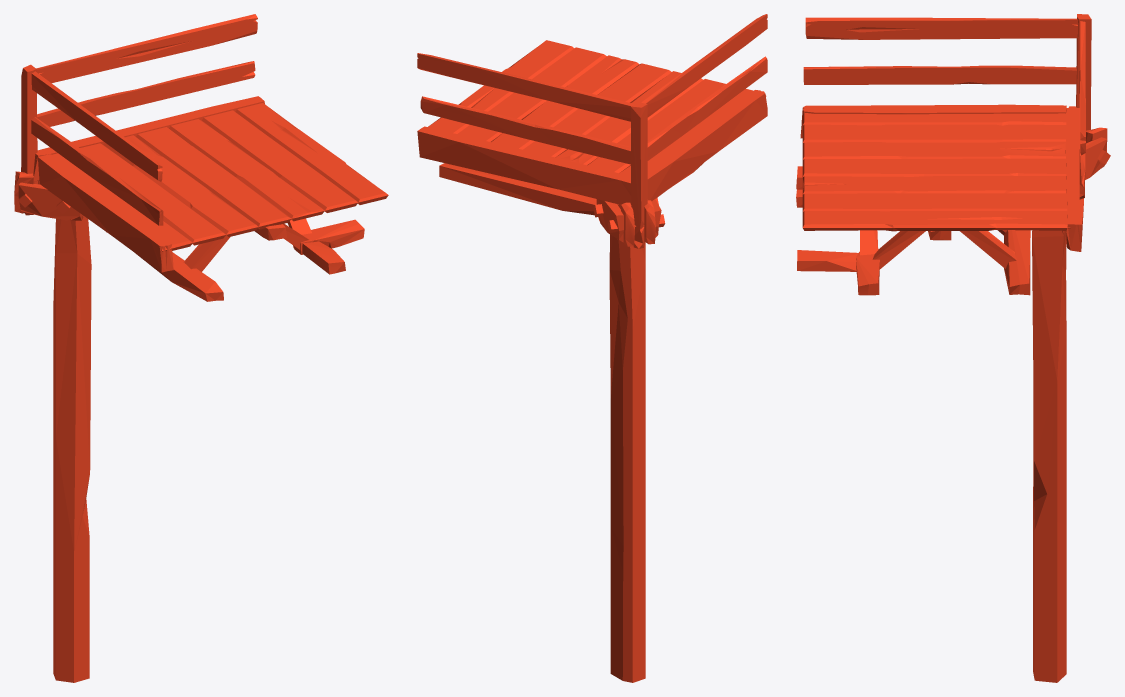
The model's file is SM_Pier_Corner_Railing_City.fbx.
3 views of the same model, side by side, from view 1: azimuth 30°, elevation 25°; view 2: azimuth 150°, elevation 25°; view 3: azimuth 270°, elevation 25° (orthographic). The views are drawn at different scales.
Parts seen in each view (by area): view 1: SM_Pier_Corner_Railing_City; view 2: SM_Pier_Corner_Railing_City; view 3: SM_Pier_Corner_Railing_City.
Part boxes in pixels (left/top/right/bottom): SM_Pier_Corner_Railing_City: left=14, top=14, right=388, bottom=682; SM_Pier_Corner_Railing_City: left=417, top=14, right=767, bottom=682; SM_Pier_Corner_Railing_City: left=796, top=14, right=1110, bottom=682.
Size of the model in its own units: 3.29 by 7.57 by 3.35.
